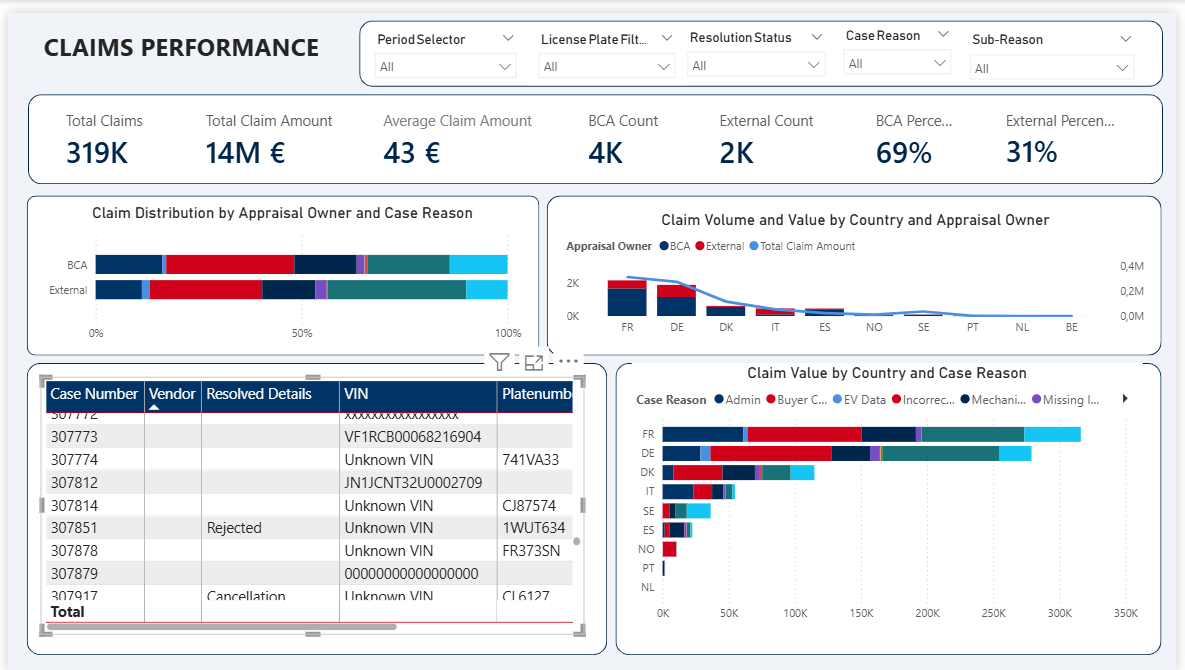

This screenshot's page, from the dashboard's own definition file:
{"tool":"powerbi","page":{"name":"GLOBAL VIEW","canvas":[1280,720],"ordinal":1},"visuals":[{"type":"shape","box":[21.6,89.1,1243.8,98.6],"z":0},{"type":"shape","box":[384.9,8.2,880.8,72.6],"z":1000},{"type":"shape","box":[590.2,199.9,673.9,175.6],"z":2000},{"type":"shape","box":[665.8,383.5,598.3,320.1],"z":3000},{"type":"shape","box":[20.3,199.9,561.8,175.6],"z":4000},{"type":"slicer","fields":{"Values":["Fact_Claims.Date/Time Closed.Variation.Date Hierarchy.Year","Fact_Claims.Date/Time Closed.Variation.Date Hierarchy.Month"]},"box":[391.8,15.1,175.3,60.3],"z":5000},{"type":"slicer","fields":{"Values":["Fact_Claims.Resolved Details"]},"box":[734.2,13.7,171.2,60.3],"z":6000},{"type":"slicer","fields":{"Values":["Fact_Claims.Case Reason Sub Def"]},"box":[1043.8,15.1,200,60.3],"z":7000},{"type":"cardVisual","fields":{"Data":["Fact_Claims.Total Claims"]},"box":[33.8,94.5,154,89.1],"z":8000},{"type":"cardVisual","fields":{"Data":["Fact_Claims.Total Claim Amount"]},"box":[187.7,94.5,197.2,89.1],"z":9000},{"type":"cardVisual","fields":{"Data":["Fact_Claims.Average Claim Amount"]},"box":[382.2,94.5,224.2,89.1],"z":10000},{"type":"cardVisual","fields":{"Data":["Fact_Claims.BCA Count"]},"box":[606.4,94.5,144.5,89.1],"z":11000},{"type":"cardVisual","fields":{"Data":["Fact_Claims.External Count"]},"box":[750.9,94.5,171.5,89.1],"z":12000},{"type":"lineStackedColumnComboChart","title":"Claim Volume and Value by Country and Appraisal Owner","fields":{"Category":["Dim_Vehicle.Country"],"Y":["CountNonNull(Fact_Claims.Case ID)"],"Y2":["Fact_Claims.Total Claim Amount"],"Series":["Dim_Vehicle.Appraisal Owner"]},"box":[606.4,216.1,644.2,145.9],"z":13000},{"type":"barChart","title":"Claim Value by Country and Case Reason","fields":{"Category":["Dim_Vehicle.Country"],"Series":["Fact_Claims.Case Reason"],"Y":["Fact_Claims.Total Claim Amount"]},"box":[684.7,398.4,560.5,291.7],"z":14000},{"type":"hundredPercentStackedBarChart","title":"Claim Distribution by Appraisal Owner and Case Reason","fields":{"Y":["Fact_Claims.Total Claim Amount"],"Category":["Dim_Vehicle.Appraisal Owner"],"Series":["Fact_Claims.Case Reason"]},"box":[33.8,208,533.4,160.7],"z":15000},{"type":"cardVisual","fields":{"Data":["Fact_Claims.BCA Percentage"]},"box":[921.9,94.5,142.5,89],"z":16000},{"type":"cardVisual","fields":{"Data":["Fact_Claims.External Percentage"]},"box":[1064.4,93.2,180.8,91.8],"z":17000},{"type":"shape","box":[20.3,383.5,636.1,320.1],"z":18000},{"type":"tableEx","fields":{"Values":["Fact_Claims.Case Number","Fact_Claims.Vendor","Fact_Claims.Resolved Details","Fact_Claims.VIN","Fact_Claims.Platenumber","Dim_Vehicle.Appraisal Owner","Sum(Fact_Claims.Total cost)"]},"box":[35.1,398.4,596.9,283.6],"z":19000},{"type":"slicer","fields":{"Values":["Fact_Claims.Case Reason"]},"box":[905.5,11,138.4,65.8],"z":20000},{"type":"slicer","fields":{"Values":["Fact_Claims.Platenumber"]},"box":[571.2,15.1,169.9,64.4],"z":21000},{"type":"textbox","box":[34.2,8.2,347.9,72.6],"z":22000}]}

Visuals, with their boxes in screenshot pixels (x1, y1, x2, y2), scaled from the page's 1280x720 canvas onto the 1185x670 screenshot:
shape: select_region(20, 83, 1171, 175)
shape: select_region(356, 8, 1172, 75)
shape: select_region(546, 186, 1170, 349)
shape: select_region(616, 357, 1170, 655)
shape: select_region(19, 186, 539, 349)
slicer - Fact_Claims.Date/Time Closed.Variation.Date Hierarchy.Year x Fact_Claims.Date/Time Closed.Variation.Date Hierarchy.Month: select_region(363, 14, 525, 70)
slicer - Fact_Claims.Resolved Details: select_region(680, 13, 838, 69)
slicer - Fact_Claims.Case Reason Sub Def: select_region(966, 14, 1151, 70)
cardVisual - Fact_Claims.Total Claims: select_region(31, 88, 174, 171)
cardVisual - Fact_Claims.Total Claim Amount: select_region(174, 88, 356, 171)
cardVisual - Fact_Claims.Average Claim Amount: select_region(354, 88, 561, 171)
cardVisual - Fact_Claims.BCA Count: select_region(561, 88, 695, 171)
cardVisual - Fact_Claims.External Count: select_region(695, 88, 854, 171)
"Claim Volume and Value by Country and Appraisal Owner" lineStackedColumnComboChart: select_region(561, 201, 1158, 337)
"Claim Value by Country and Case Reason" barChart: select_region(634, 371, 1153, 642)
"Claim Distribution by Appraisal Owner and Case Reason" hundredPercentStackedBarChart: select_region(31, 194, 525, 343)
cardVisual - Fact_Claims.BCA Percentage: select_region(853, 88, 985, 171)
cardVisual - Fact_Claims.External Percentage: select_region(985, 87, 1153, 172)
shape: select_region(19, 357, 608, 655)
tableEx - Fact_Claims.Case Number x Fact_Claims.Vendor: select_region(32, 371, 585, 635)
slicer - Fact_Claims.Case Reason: select_region(838, 10, 966, 71)
slicer - Fact_Claims.Platenumber: select_region(529, 14, 686, 74)
textbox: select_region(32, 8, 354, 75)
